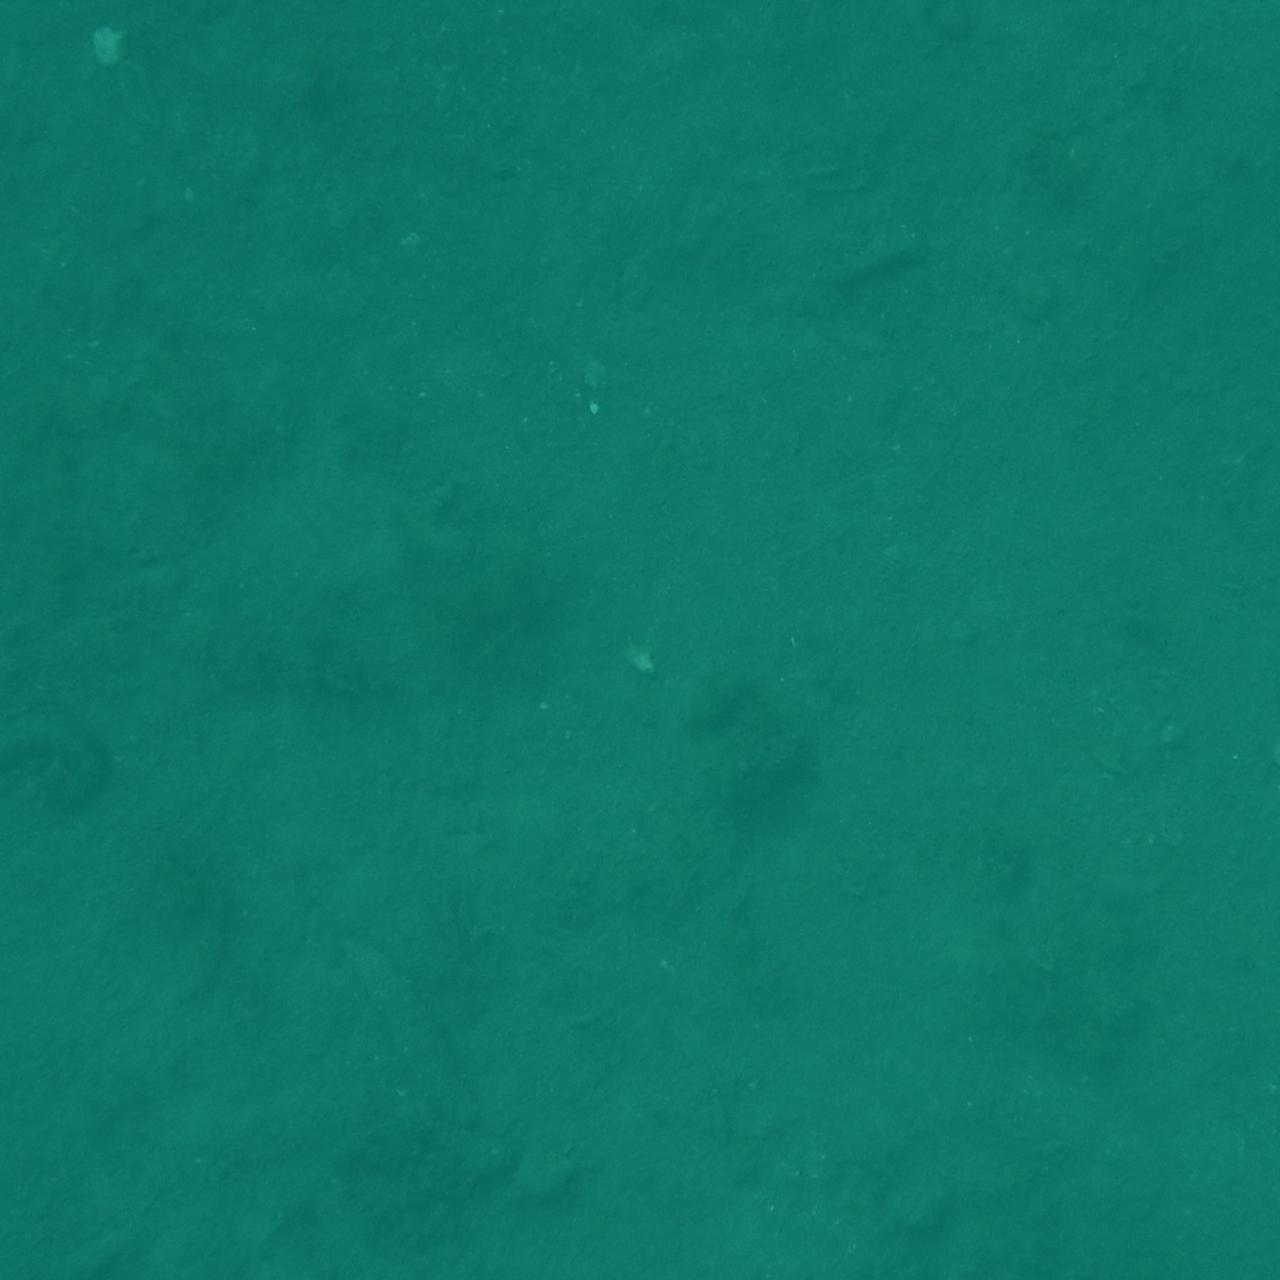Holothuria tubulosa: (316, 907, 496, 1137), (229, 0, 451, 108), (945, 1186, 1199, 1280), (1138, 162, 1280, 328), (890, 0, 1112, 89), (0, 695, 155, 821), (1177, 694, 1280, 866), (0, 0, 109, 163), (1136, 395, 1280, 505), (0, 492, 102, 646), (689, 1219, 925, 1280), (1207, 967, 1280, 1158), (338, 1175, 464, 1280), (0, 189, 56, 421), (0, 1175, 123, 1280), (0, 0, 102, 116), (0, 0, 161, 70), (0, 1198, 123, 1280), (0, 0, 75, 129), (1198, 0, 1280, 113), (0, 0, 61, 134), (859, 0, 925, 121), (1184, 994, 1280, 1075), (0, 0, 98, 75), (1219, 1196, 1280, 1280), (1214, 0, 1280, 50)
Rifiuto: (0, 1164, 139, 1280)
